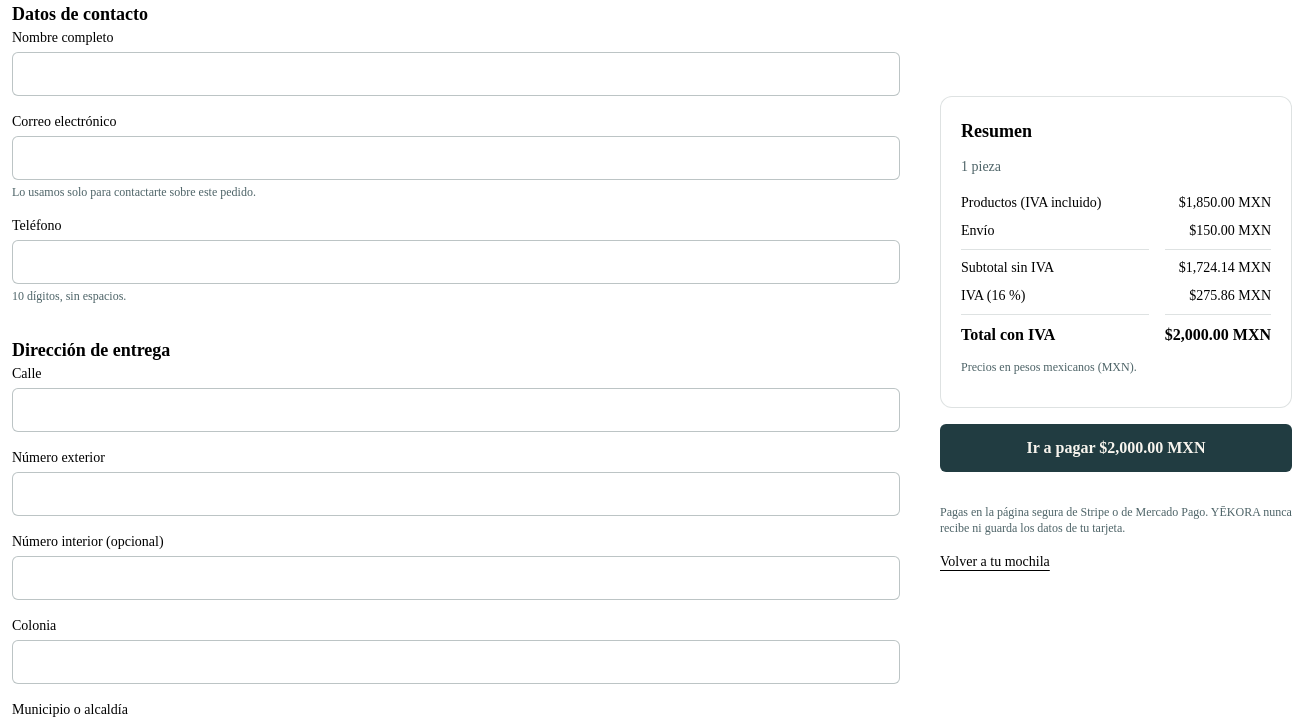
Scenario: CheckoutForm › shows every missing field, marks it invalid and focuses the first one
Click the button "Ir a pagar $2,000.00 MXN".
click(1116, 448)  # box [940, 424, 1292, 472]
(page scrolled)
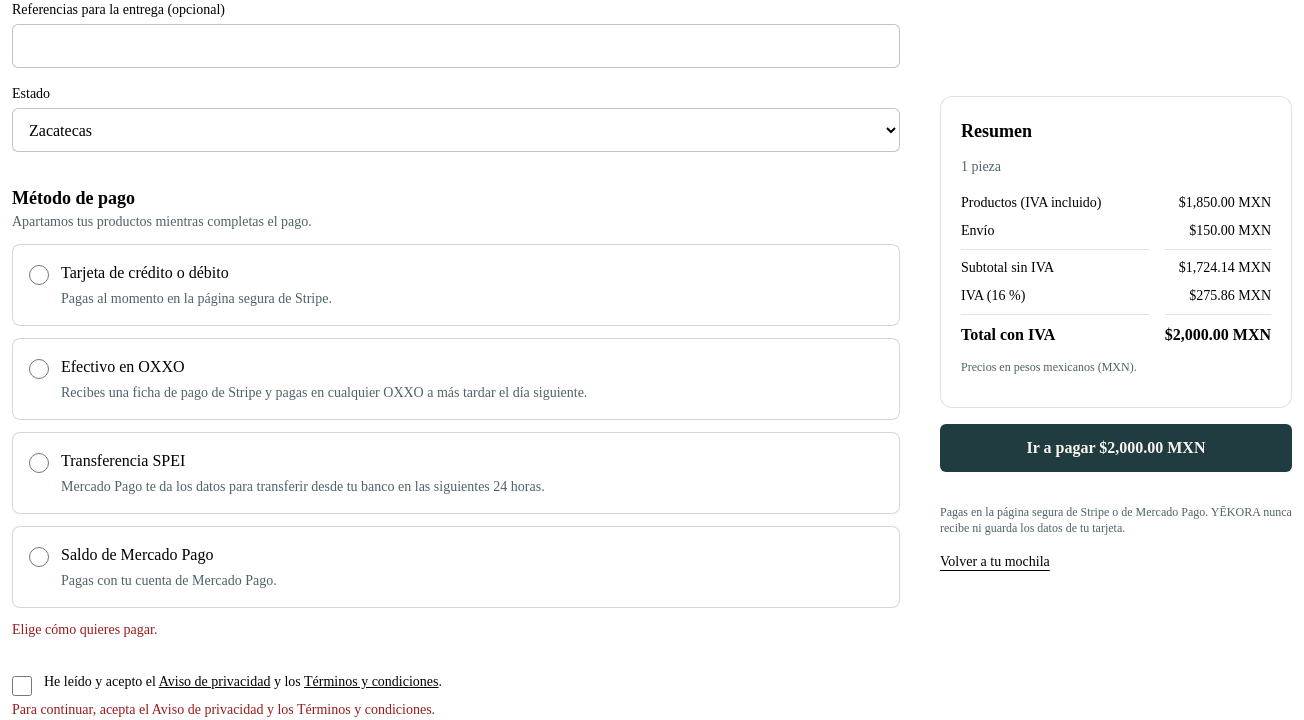
Now the text "Elige cómo quieres pagar." is shown, box [12, 622, 157, 637]
Now the text "Para continuar, acepta el Aviso de privacidad y los Términos y condiciones." is shown, box [12, 702, 435, 717]
